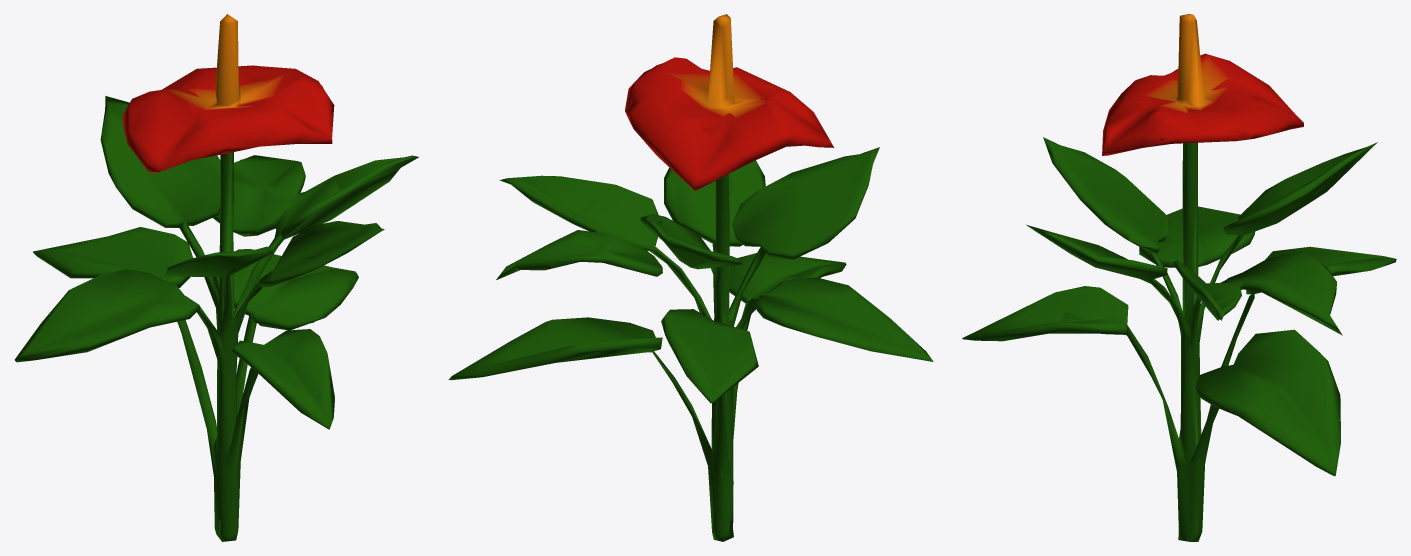
File: gen3d-anthurium-lod1.glb
The picture shows the model from 3 angles, left to right: view 1: azimuth 30°, elevation 25°; view 2: azimuth 150°, elevation 25°; view 3: azimuth 270°, elevation 25°; orthographic projection.
Visible parts, largest first — view 1: part_0; view 2: part_0; view 3: part_0.
Part boxes in pixels (left/top/right/bottom): part_0: left=14, top=14, right=418, bottom=541; part_0: left=448, top=14, right=933, bottom=541; part_0: left=962, top=14, right=1396, bottom=541.
Size of the model in its own units: 0.8406 by 0.9989 by 0.748.
